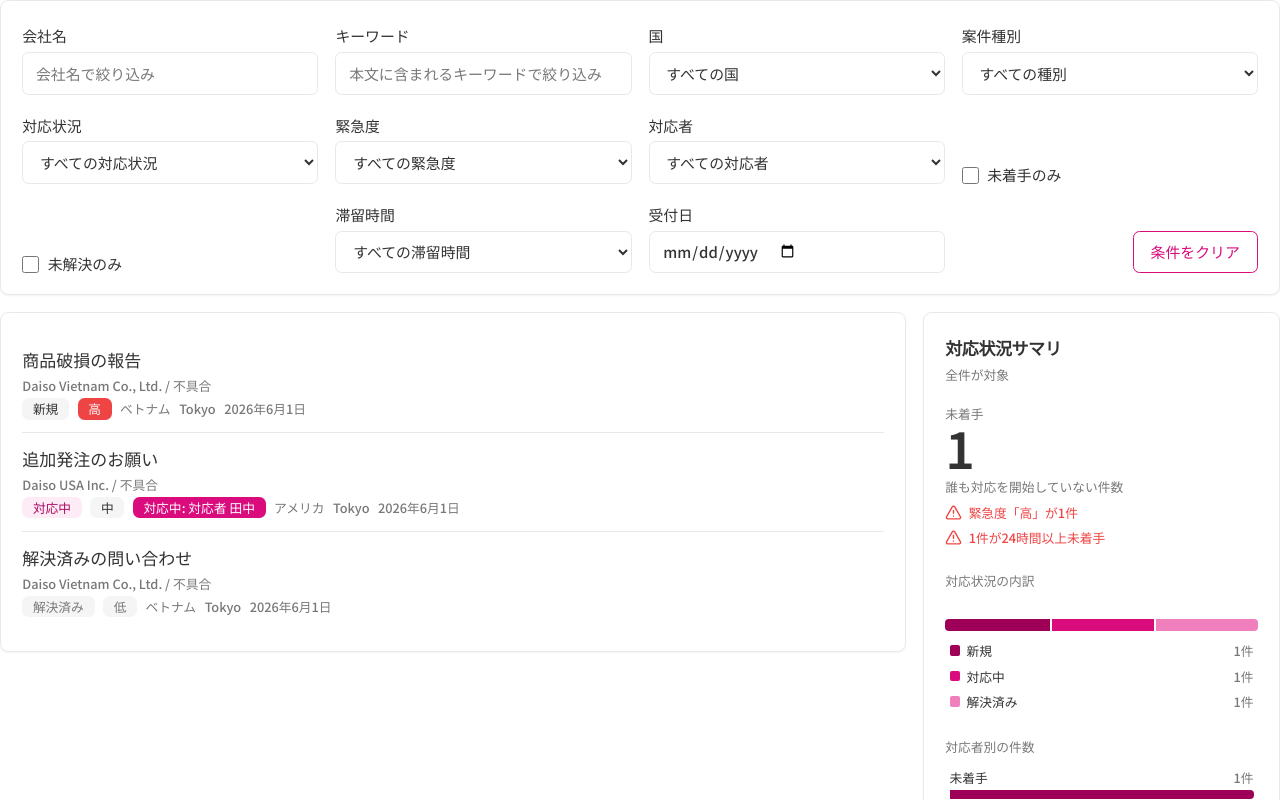
HelpdeskInquiryListClient › 対応者を選択した状態で未着手のみを選ぶと、対応者の絞り込みが解除される
Select "田中" in the dropdown labelled "対応者" at (797, 163), box [648,141,945,184]
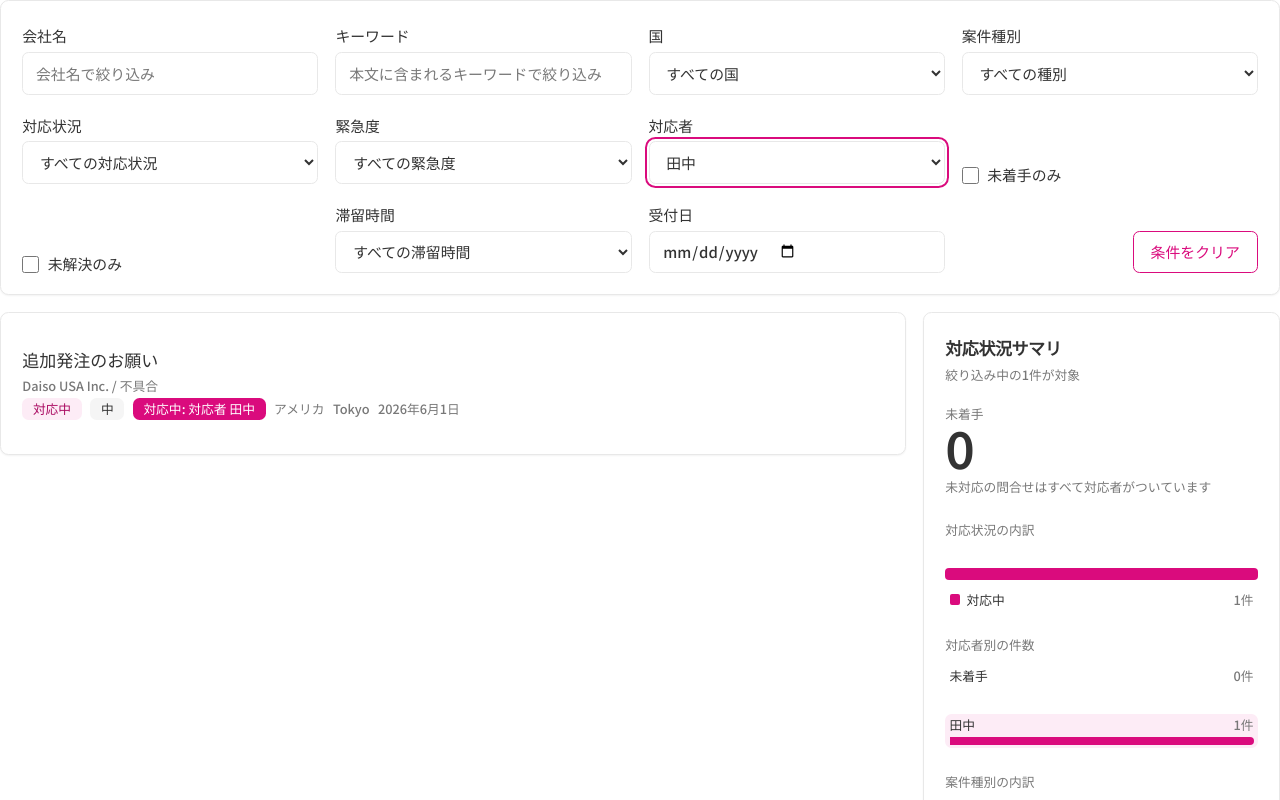
Click the checkbox labelled "未着手のみ" at (970, 175), box [962,167,979,184]
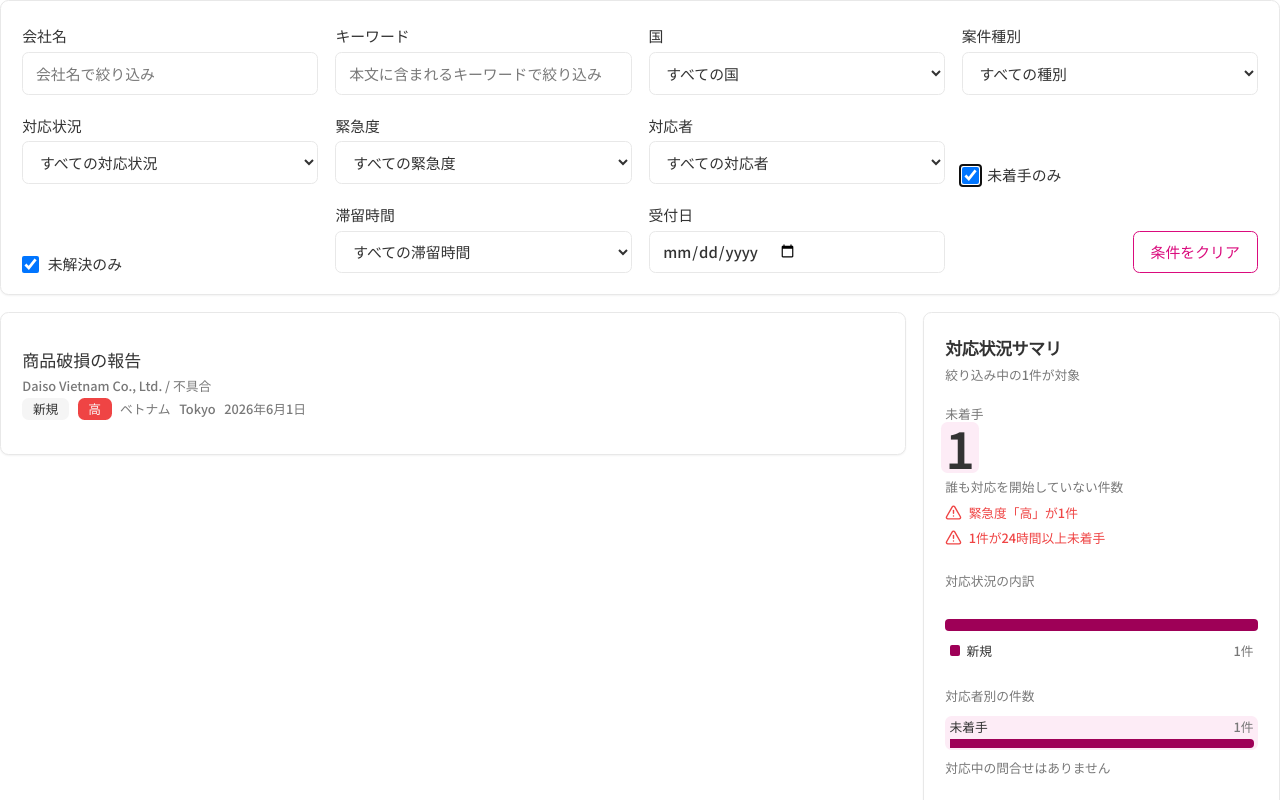
Check: the link "商品破損の報告" is shown, box [22,347,141,372]
Check: the link "追加発注のお願い" is gone
